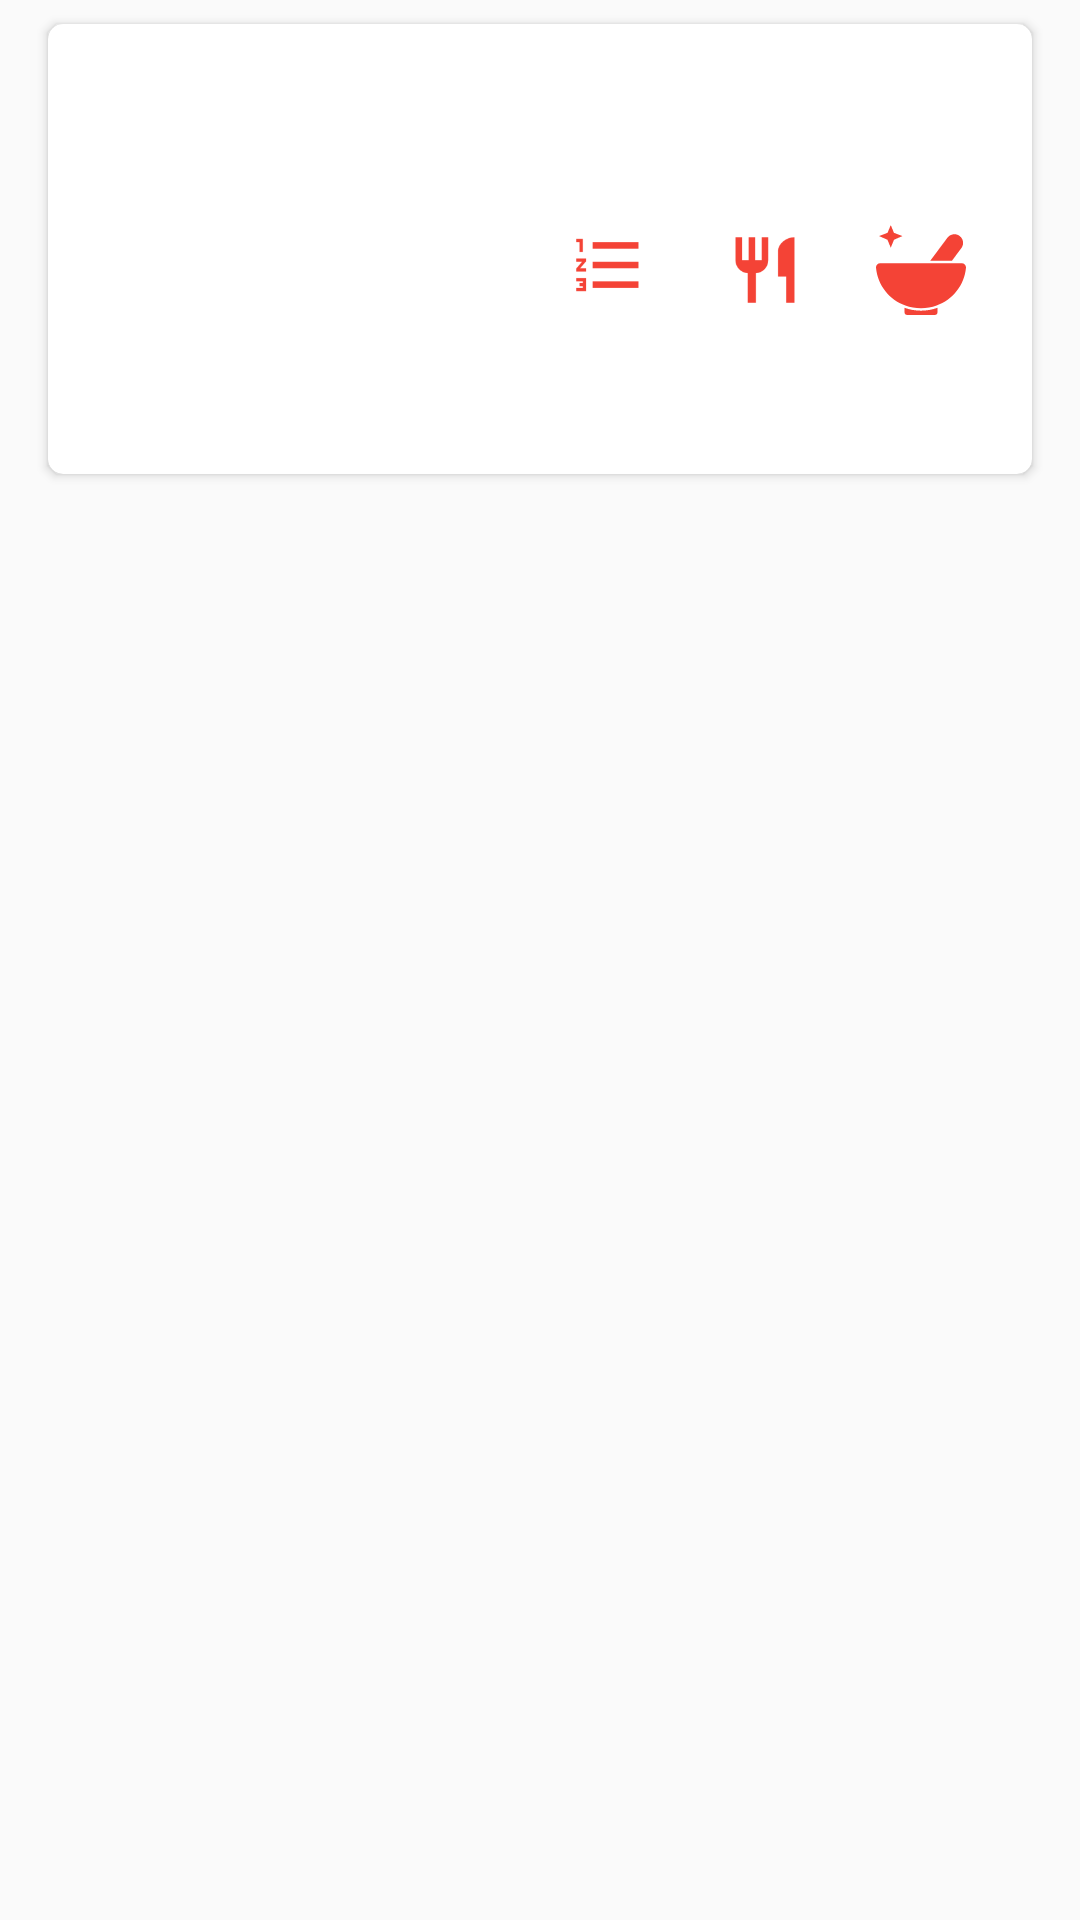

Named icons in this screenshot (1080×1920) and their bounding boxes, bbox(x1, y1, x2, y2):
Ingredients: bbox(876, 225, 966, 315)
Serves: bbox(735, 237, 795, 303)
Steps: bbox(576, 238, 639, 292)
